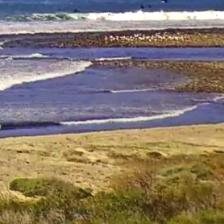surfer: (140, 4, 146, 10), (162, 0, 170, 4), (147, 4, 153, 8), (74, 9, 78, 13)
